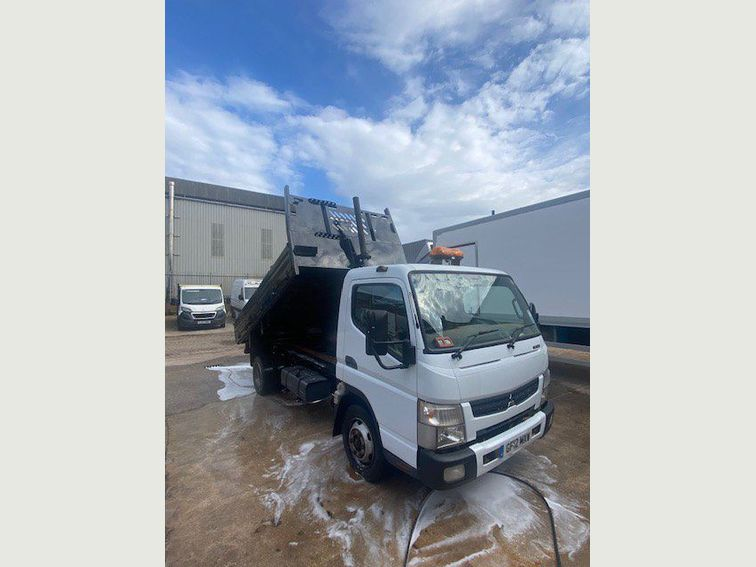Semi: (232, 184, 553, 486), (176, 282, 227, 330)
